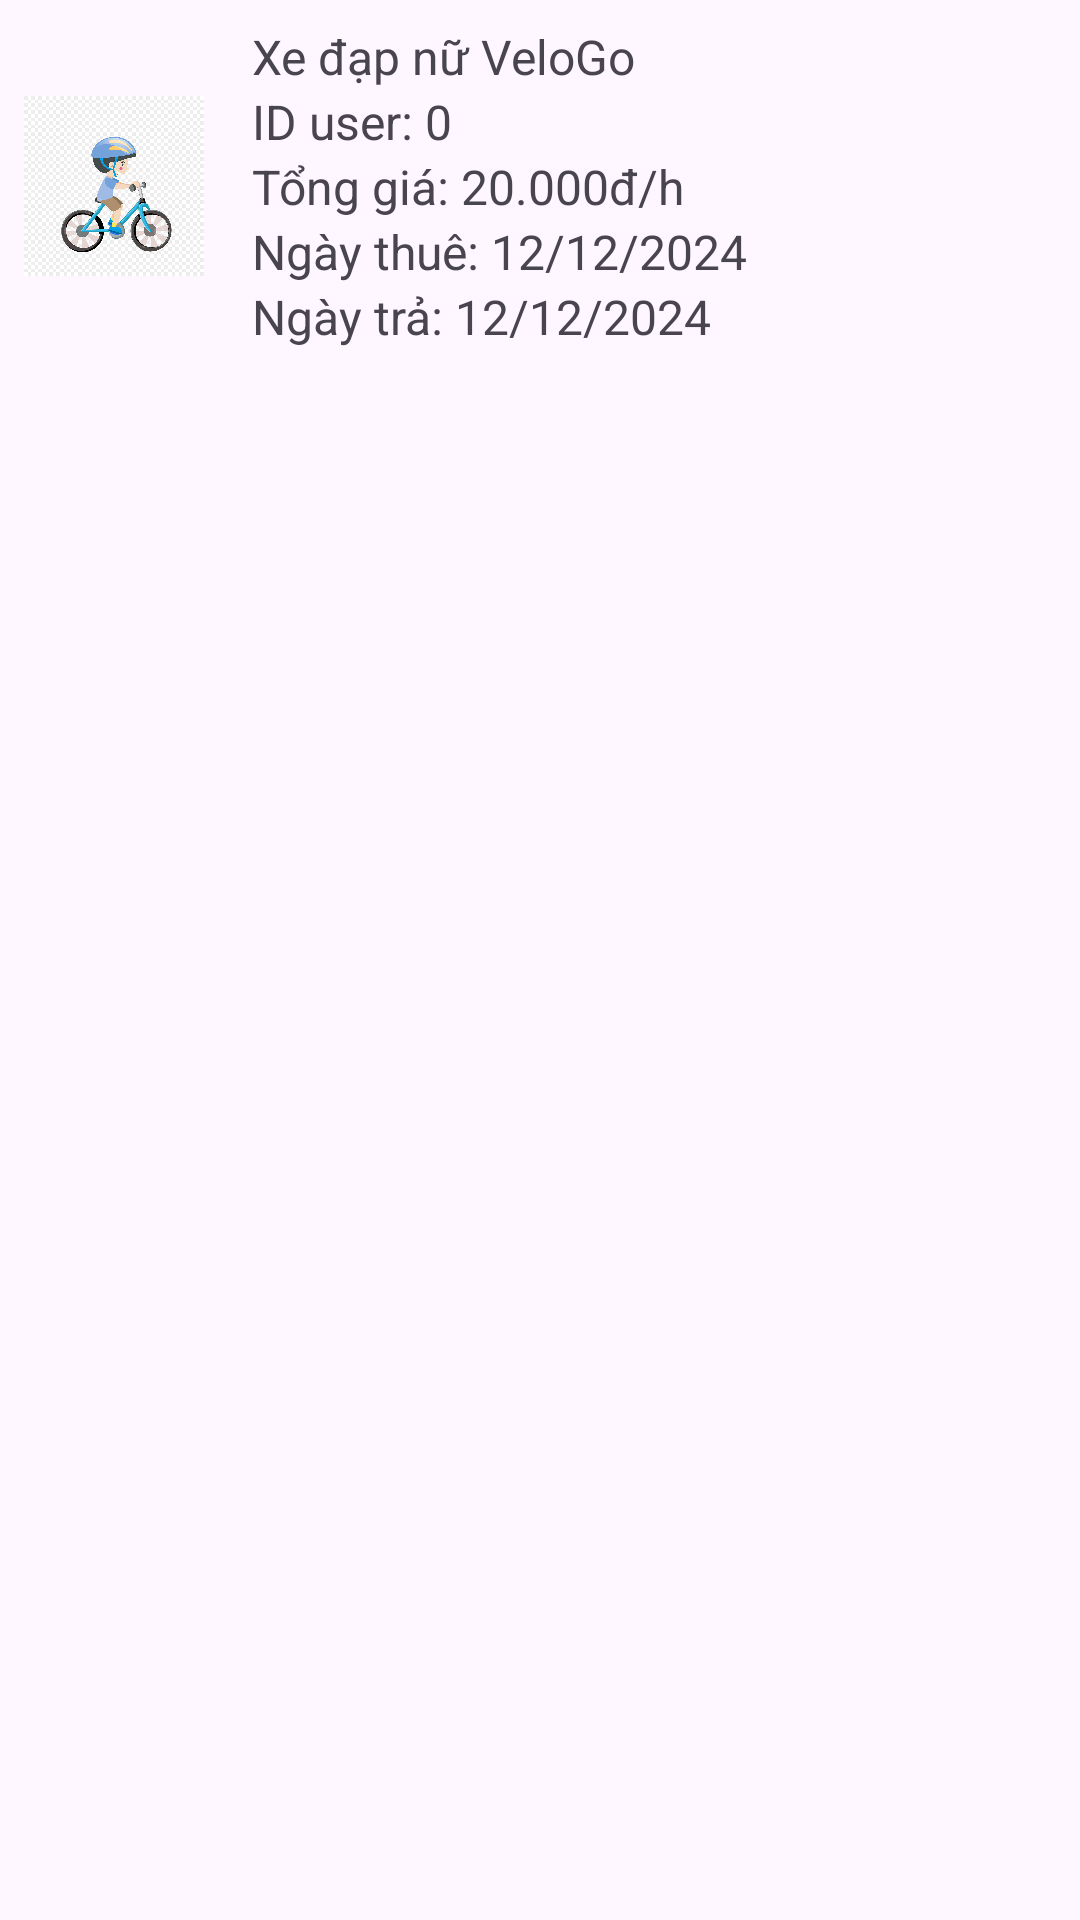

Icons on this 1080 x 1920 Android screen, each with the point to tap as (x,y):
cycling: (116,194)
